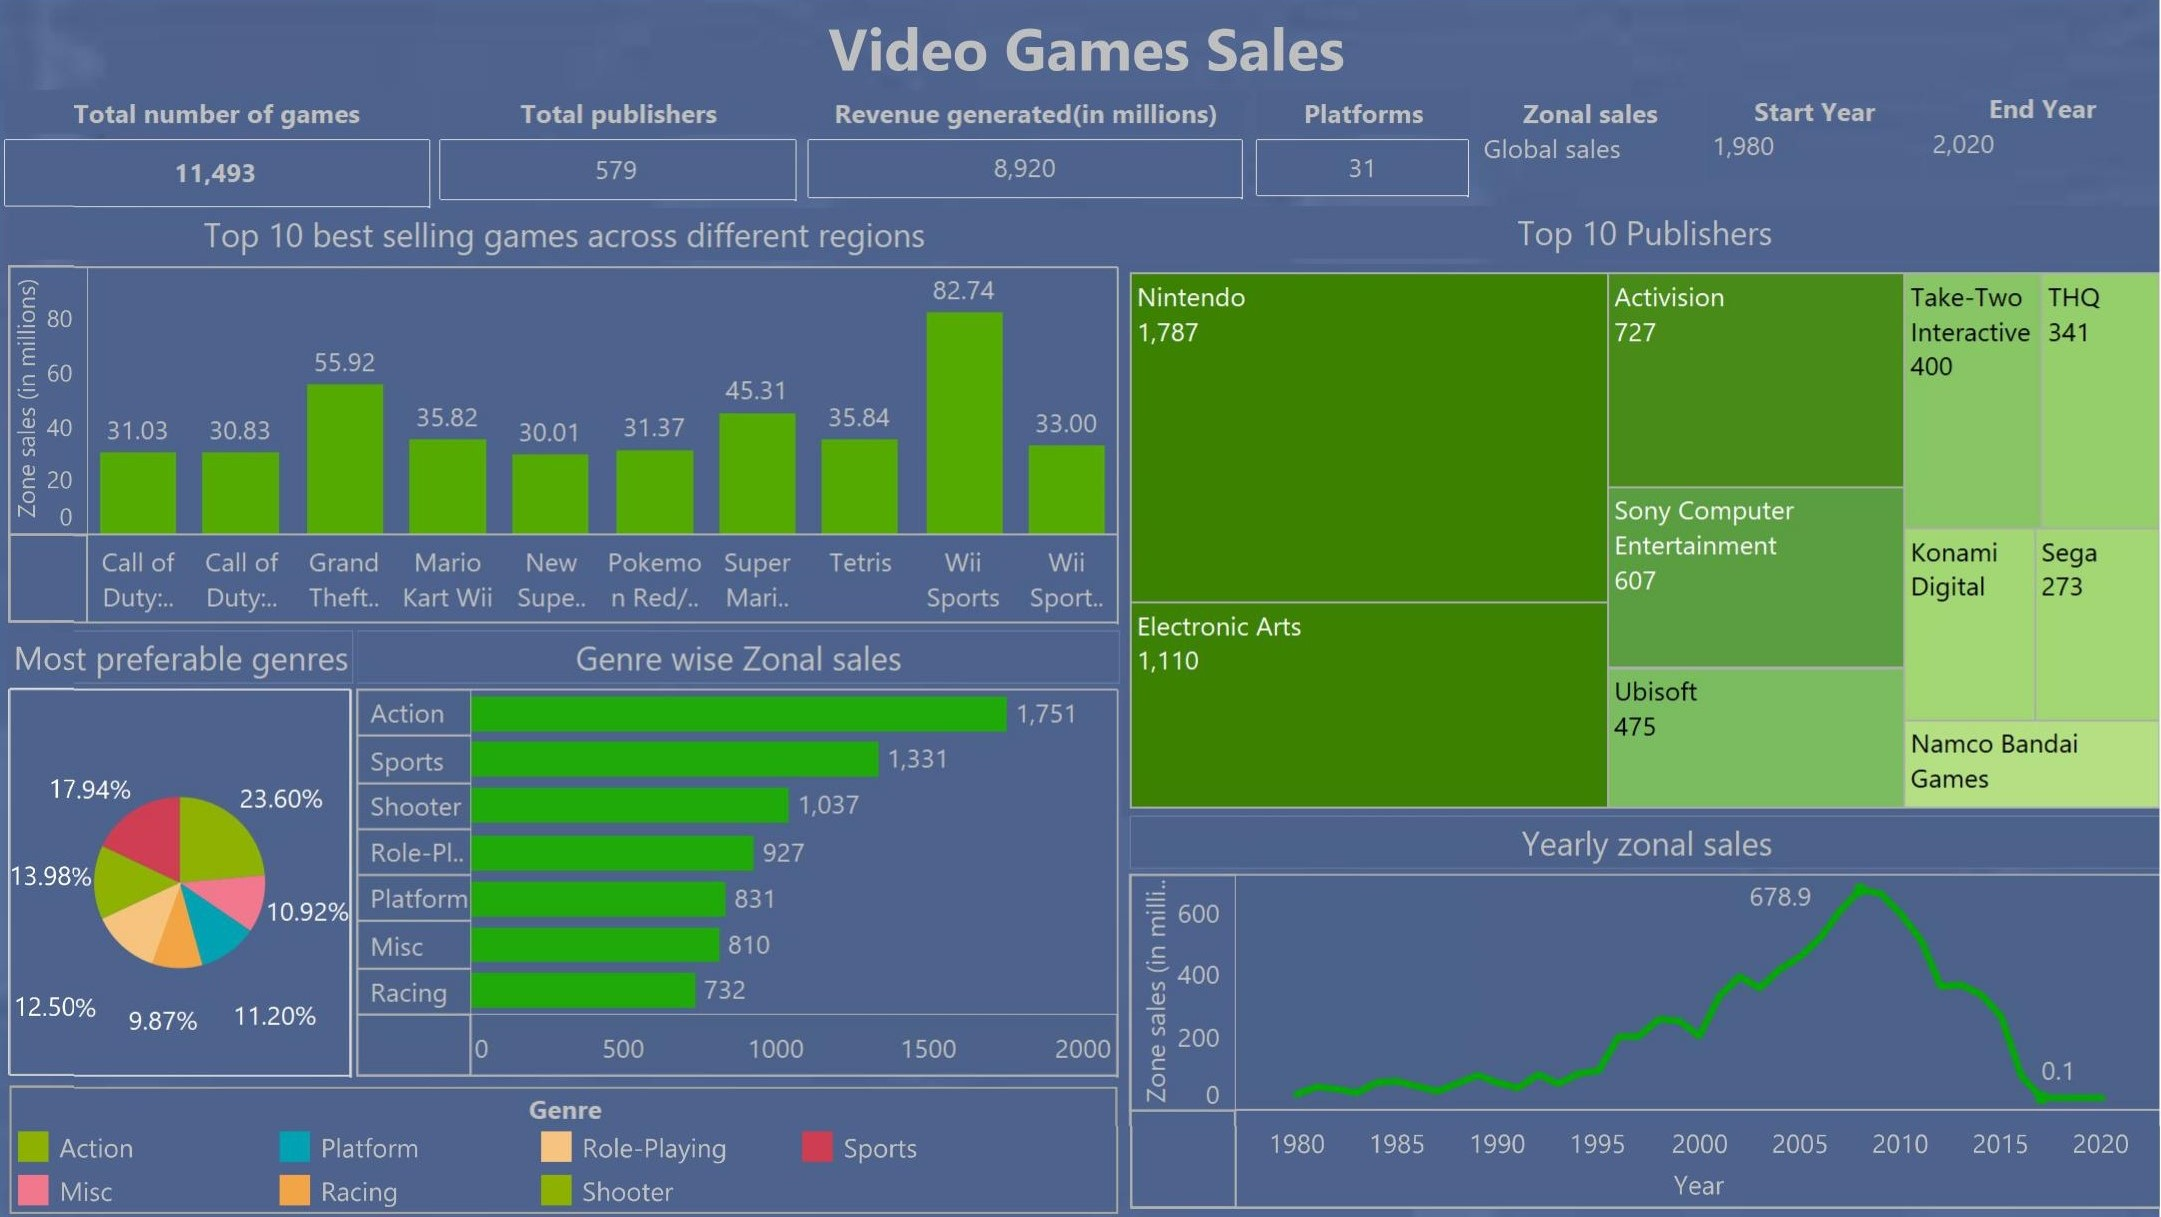

The page's visual inventory and layout, read from the dashboard file:
{"tool":"tableau","page":{"name":"Dashboard 1","canvas":[1000,800],"ordinal":0},"visuals":[{"type":"title","box":[8,8,984,40]},{"type":"worksheet","title":"Count of games","mark":"Automatic","box":[13,52,169,53]},{"type":"worksheet","title":"Count of publishers","mark":"Automatic","box":[185,52,176,52]},{"type":"worksheet","title":"Revenue generated","mark":"Automatic","box":[364,52,181,53]},{"type":"worksheet","title":"Counts of platforms","mark":"Automatic","box":[548,53,155,51]},{"type":"parameter","param":"[Parameters].[Parameter 1]","box":[707,53,105,51]},{"type":"parameter","param":"[Parameters].[Parameter 3]","box":[900,53,89,43]},{"type":"parameter","param":"[Parameters].[Parameter 2]","box":[816,54,84,49]},{"type":"worksheet","title":"Top selling games","mark":"Automatic","rows":["Global_Sales"],"cols":["Name"],"box":[12,110,519,206]},{"type":"worksheet","title":"Top publishers","mark":"Automatic","box":[536,110,457,272]},{"type":"worksheet","title":"Preferable games","mark":"Pie","box":[12,320,187,222]},{"type":"worksheet","title":"Genre wise Zonal sales","mark":"Automatic","rows":["Genre"],"cols":["Calculation_863002333877837824"],"box":[199,322,330,221]},{"type":"worksheet","title":"Yearly zonal sales","mark":"Automatic","rows":["Calculation_863002333877837824"],"cols":["Year"],"box":[537,385,454,231]},{"type":"legend","title":"Preferable games","param":"[federated.0q30jb21gmbg3l1atbnnh1np42ev].[none:Genre:nk]","box":[12,546,522,69]}]}

Visuals, with their boxes on the page's 1000x800 design canvas (x1, y1, x2, y2). These are canvas units, not pixel positions in the 2161x1217 screenshot, which may show the page scaled, cropped or inside an application window:
title: [left=8, top=8, right=992, bottom=48]
"Count of games" worksheet: [left=13, top=52, right=182, bottom=105]
"Count of publishers" worksheet: [left=185, top=52, right=361, bottom=104]
"Revenue generated" worksheet: [left=364, top=52, right=545, bottom=105]
"Counts of platforms" worksheet: [left=548, top=53, right=703, bottom=104]
parameter: [left=707, top=53, right=812, bottom=104]
parameter: [left=900, top=53, right=989, bottom=96]
parameter: [left=816, top=54, right=900, bottom=103]
"Top selling games" worksheet: [left=12, top=110, right=531, bottom=316]
"Top publishers" worksheet: [left=536, top=110, right=993, bottom=382]
"Preferable games" worksheet (Pie marks): [left=12, top=320, right=199, bottom=542]
"Genre wise Zonal sales" worksheet: [left=199, top=322, right=529, bottom=543]
"Yearly zonal sales" worksheet: [left=537, top=385, right=991, bottom=616]
"Preferable games" legend: [left=12, top=546, right=534, bottom=615]
